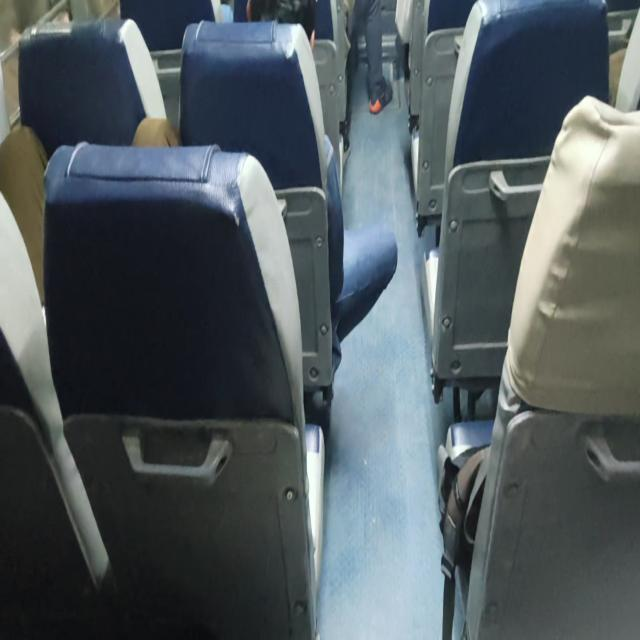person: (437, 5, 639, 637), (245, 1, 398, 375), (339, 0, 394, 152), (245, 0, 316, 52)
